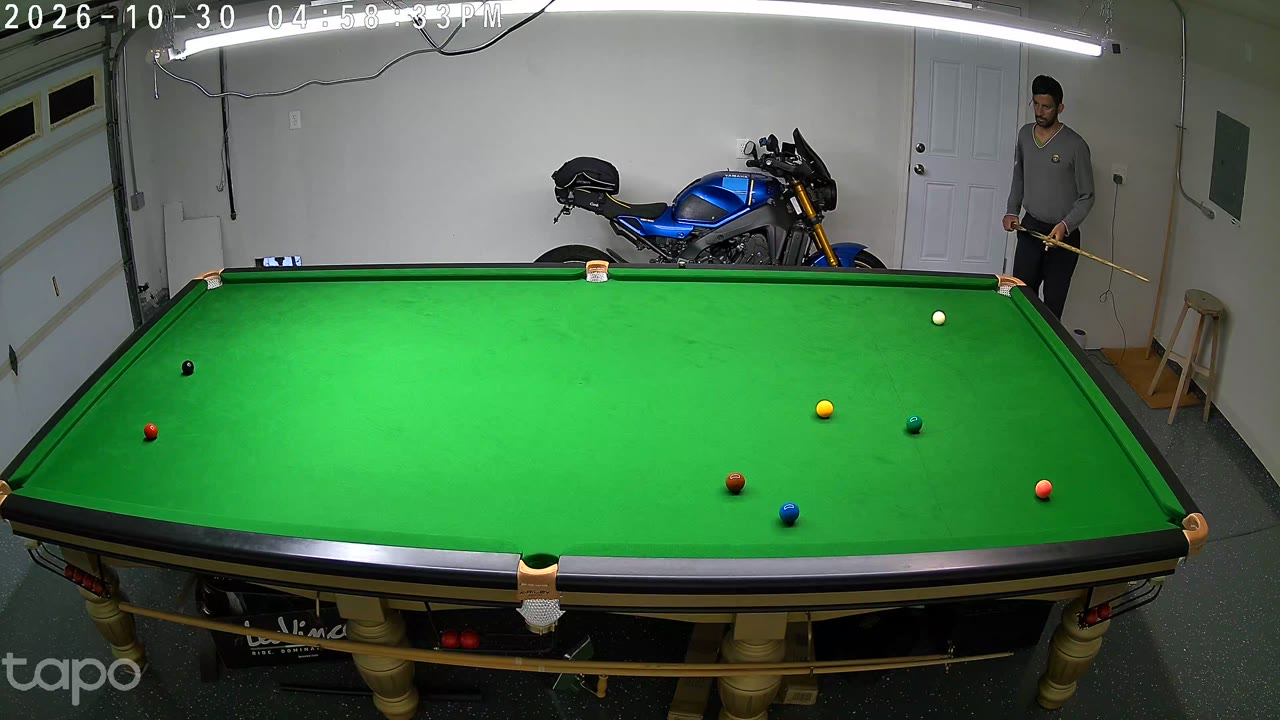black: (182, 358, 194, 378)
blue: (779, 499, 800, 528)
brown: (725, 471, 745, 497)
green: (906, 414, 922, 436)
red: (1035, 477, 1052, 502), (144, 422, 157, 442)
white: (932, 309, 945, 328)
yellow: (816, 400, 833, 421)
